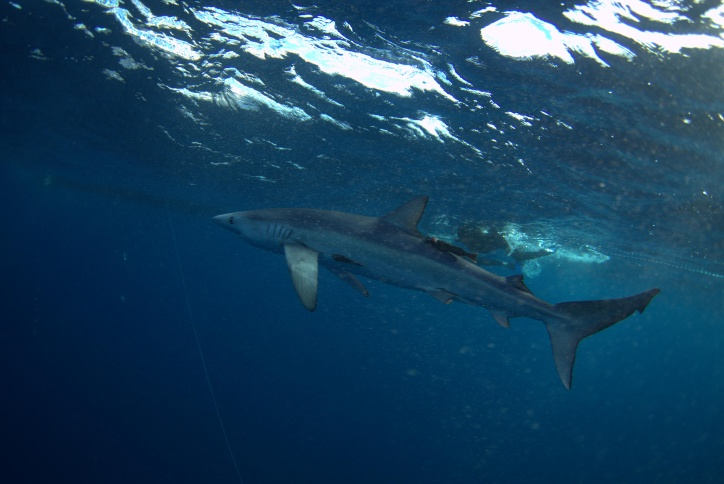Azul: (189, 174, 683, 401)
